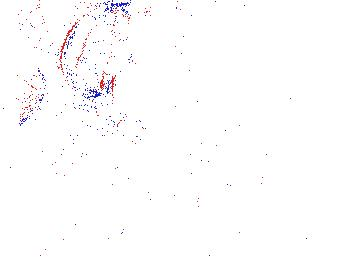moon jellyfish: (93, 30, 191, 134), (58, 3, 134, 104), (6, 11, 73, 95), (1, 10, 32, 108)
